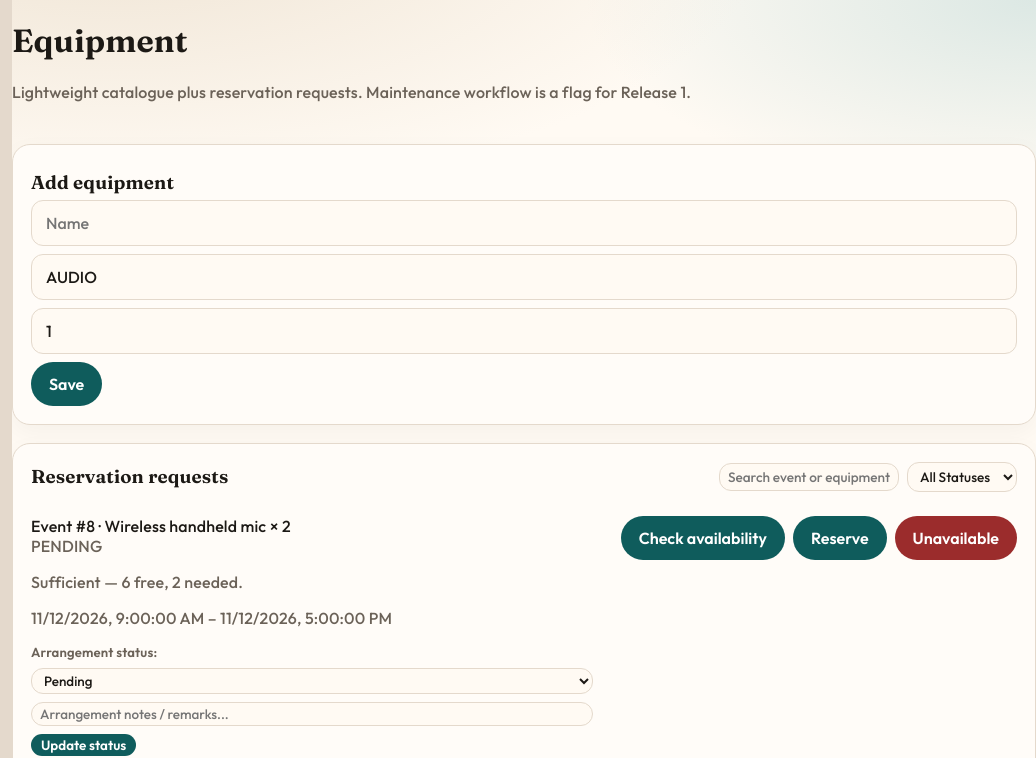
Test case: SCRUM-8 Equipment reserve on the request list › AC2: shows the API error and keeps the request pending when reserve is blocked
Click the button "Reserve".
click(840, 538)  # box left=793, top=516, right=887, bottom=560
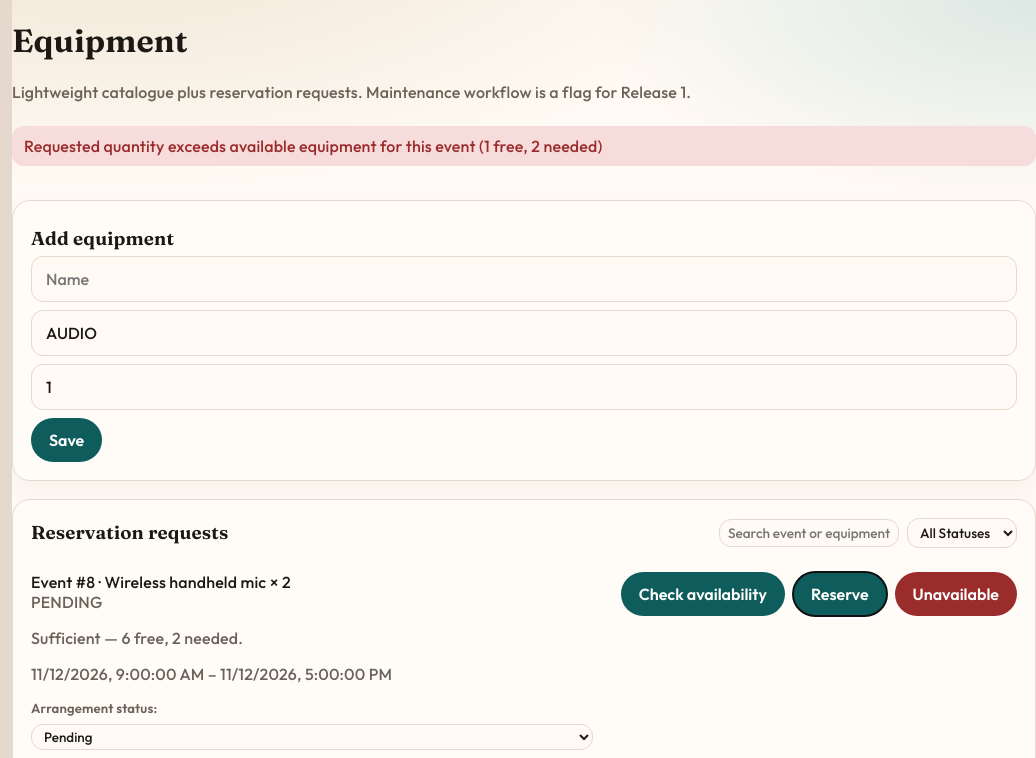
Check: the text "PENDING" is shown, box left=31, top=592, right=102, bottom=612
Check: the text "Requested quantity exceeds available equipment for this event" is shown, box left=24, top=136, right=602, bottom=156
